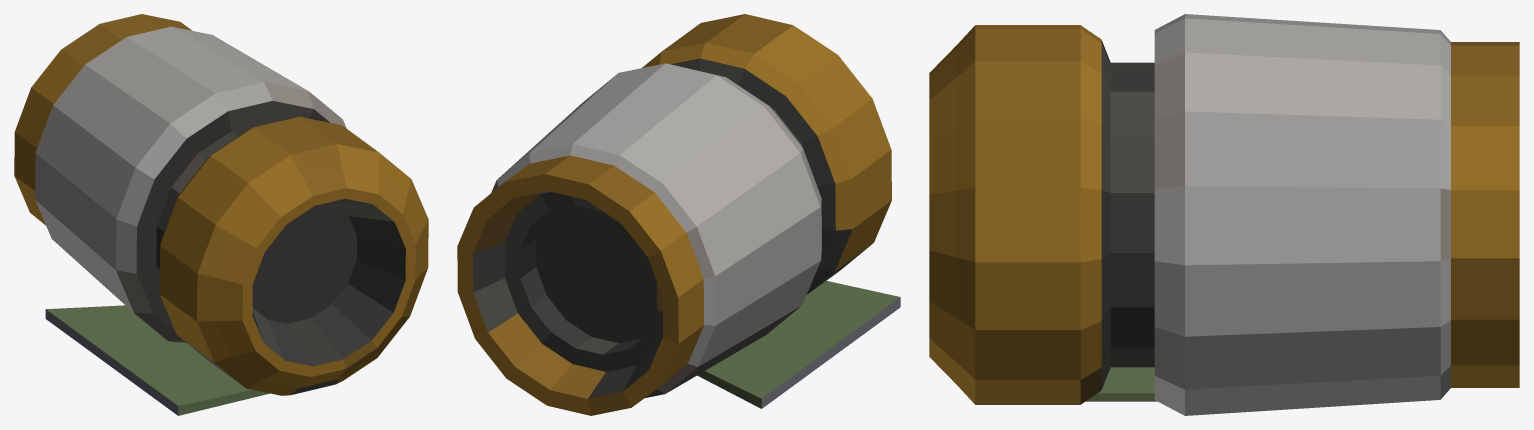
File: engine_upper_starboard.glb
3 views of the same model, side by side, from view 1: azimuth 30°, elevation 25°; view 2: azimuth 150°, elevation 25°; view 3: azimuth 270°, elevation 25° (orthographic). The views are drawn at different scales.
Bounding box in the file's own units: 0.7809 × 0.7286 × 1.12.
